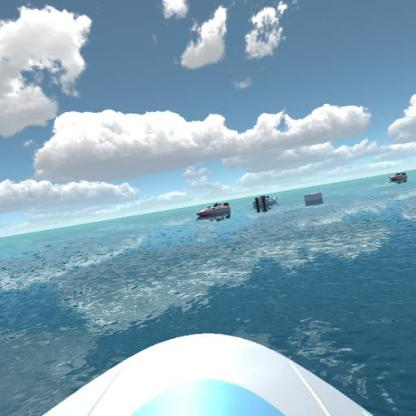usv1: (249, 190, 283, 210)
usv3: (191, 199, 234, 222), (385, 168, 410, 187)
